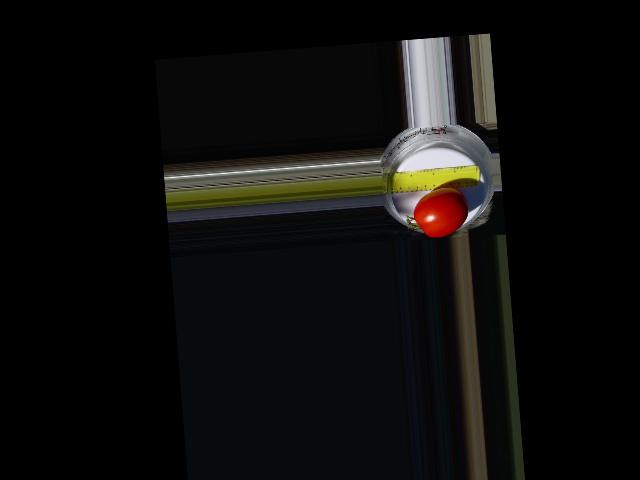tomato: (411, 185, 469, 239)
